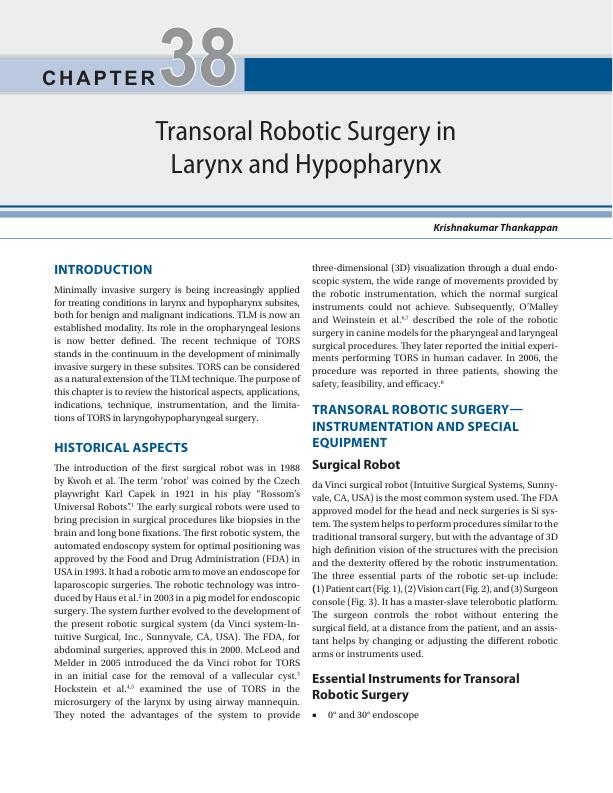chapter-heading: (153, 119, 457, 182)
list: (311, 709, 421, 722)
section-heading: (311, 403, 525, 449), (53, 441, 189, 454), (53, 263, 154, 276)
sub-section-heading: (312, 672, 520, 703), (311, 458, 402, 473)
text: (52, 463, 301, 722), (310, 478, 560, 659), (53, 284, 301, 424), (310, 261, 558, 391)
